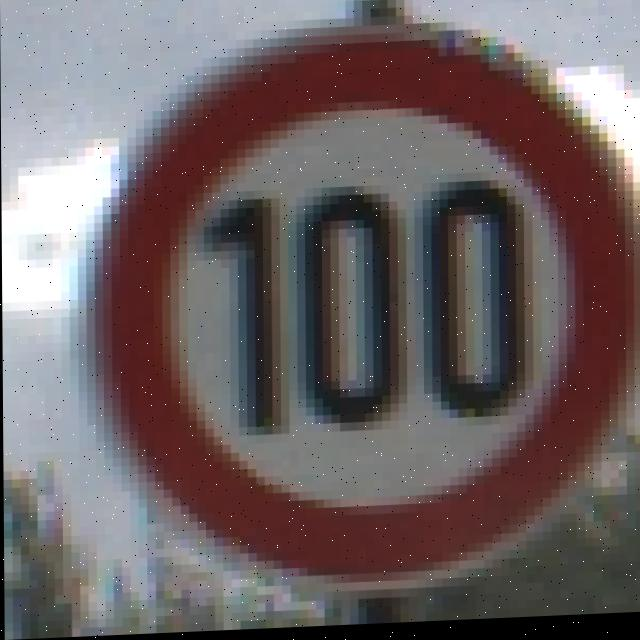speed_limit_100: (84, 14, 640, 611)
